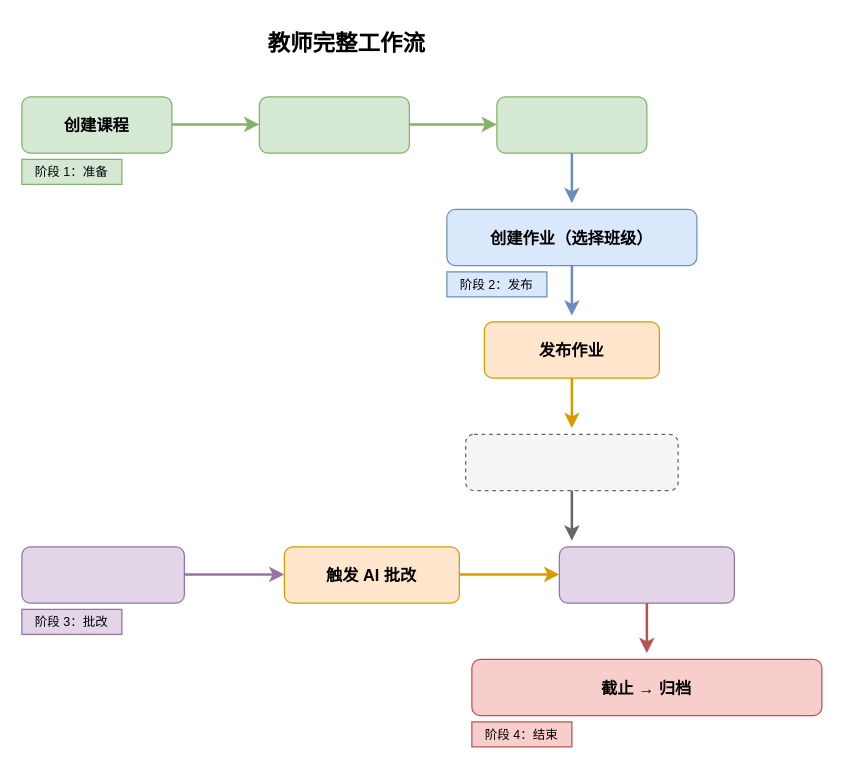
Image size: 844x769. Some labels were removed from this diagram. Each missing label, with the centre of its shape:
"创建班级" goes at point 333,124.
"查看/修改批改" goes at point 646,574.
"查看提交列表" goes at point 102,574.
"添加学生" goes at point 571,124.
"等待学生提交" goes at point 571,462.
